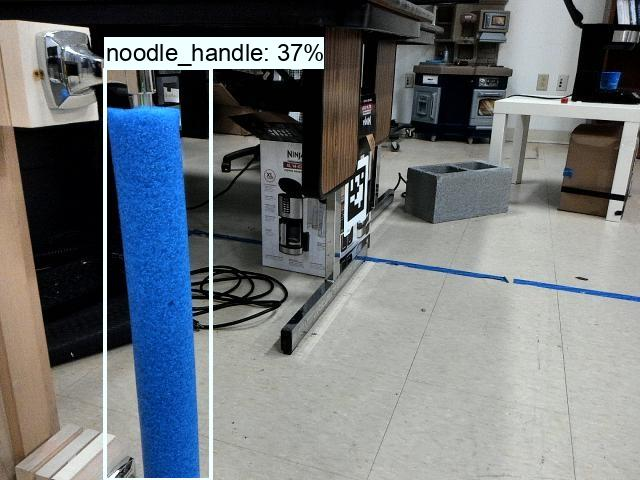noodle_handle: (93, 67, 213, 480)
